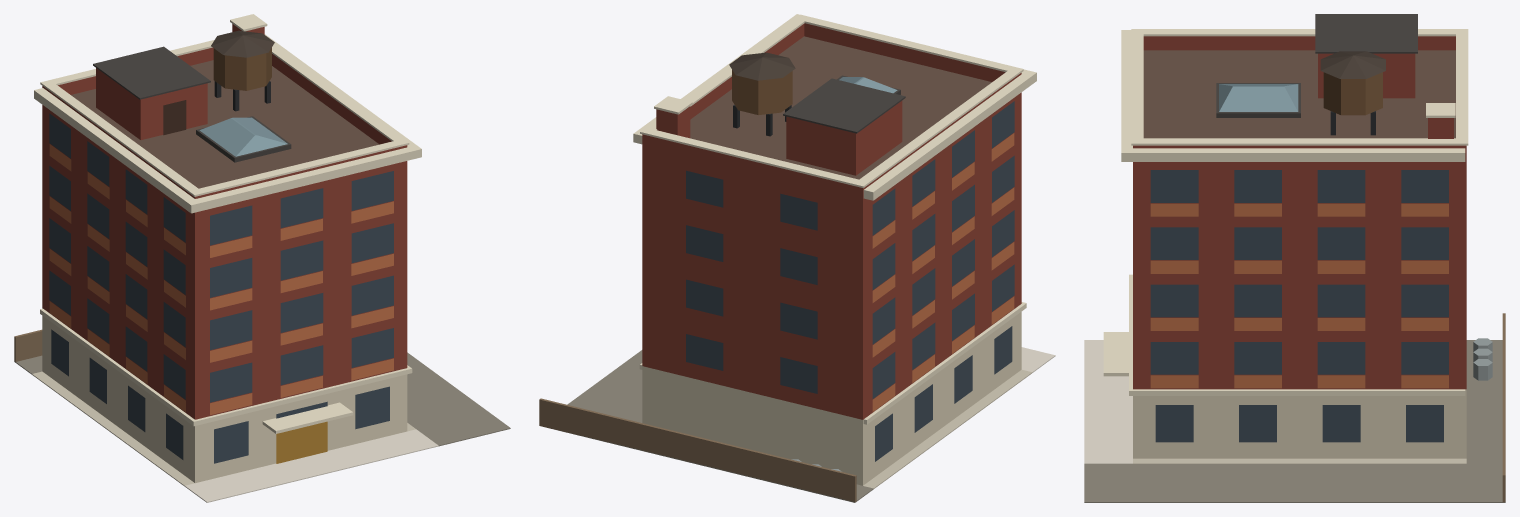
The model's file is office_s.glb.
3 renders of one model, left to right at view 1: azimuth 30°, elevation 25°; view 2: azimuth 150°, elevation 25°; view 3: azimuth 270°, elevation 25°, orthographic. The views are drawn at different scales.
Visible parts, largest first — view 1: office_s; view 2: office_s; view 3: office_s.
Part boxes in pixels (bbox=[...]): office_s: bbox=[14, 14, 510, 502]; office_s: bbox=[539, 14, 1055, 502]; office_s: bbox=[1084, 14, 1505, 502].
Size of the model in its own units: 20 by 21.32 by 22.
